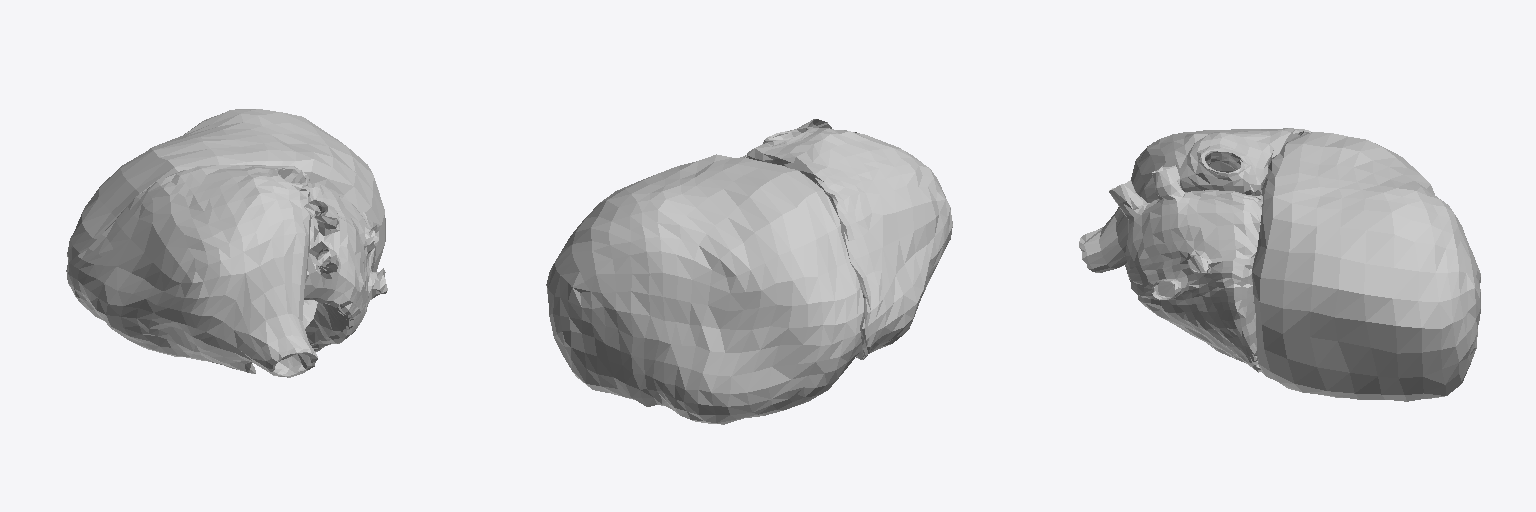
The model's file is heart_final.obj.
3 views of the same model, side by side, from view 1: azimuth 30°, elevation 25°; view 2: azimuth 150°, elevation 25°; view 3: azimuth 270°, elevation 25° (orthographic).
Visible parts, largest first — view 1: Circulatory_Heart; view 2: Circulatory_Heart; view 3: Circulatory_Heart.
Boxes of the visible parts, box(x1,y1,x2,y2) form: Circulatory_Heart: box(66, 109, 387, 377); Circulatory_Heart: box(546, 119, 952, 424); Circulatory_Heart: box(1079, 128, 1480, 401).
Size of the model in its own units: 94.31 by 65.23 by 110.